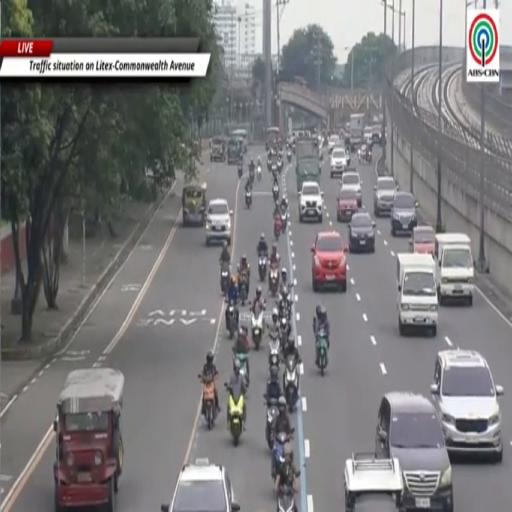car: (376, 392, 453, 511), (431, 349, 503, 461), (161, 459, 240, 511), (344, 454, 403, 511), (312, 231, 347, 292), (205, 199, 233, 245), (391, 191, 418, 236), (348, 212, 375, 252), (299, 182, 323, 222), (374, 176, 398, 216), (340, 171, 362, 207), (337, 187, 358, 221), (410, 226, 435, 254), (331, 148, 347, 178), (328, 135, 340, 153)
jeepney: (54, 368, 124, 511), (182, 183, 206, 227), (296, 157, 320, 194), (230, 128, 248, 153), (210, 137, 226, 162), (228, 137, 242, 165), (266, 126, 280, 151)
motorcycle: (270, 429, 294, 481), (225, 383, 244, 445), (198, 374, 217, 429), (283, 356, 299, 412), (265, 399, 278, 450), (316, 329, 328, 376), (251, 310, 263, 350), (277, 486, 296, 511), (235, 352, 248, 387), (269, 332, 280, 369), (227, 301, 237, 339), (281, 290, 292, 321), (220, 262, 230, 294), (269, 265, 279, 296), (280, 317, 289, 350), (258, 254, 268, 281), (239, 276, 248, 306), (274, 215, 282, 241), (280, 208, 287, 232), (246, 188, 252, 209), (273, 184, 279, 201), (237, 163, 243, 179), (277, 156, 283, 172), (249, 168, 254, 184), (271, 163, 277, 175), (257, 166, 261, 182), (267, 159, 272, 171), (287, 148, 291, 163), (292, 143, 295, 153)
truck: (296, 137, 320, 195), (349, 114, 365, 150)
